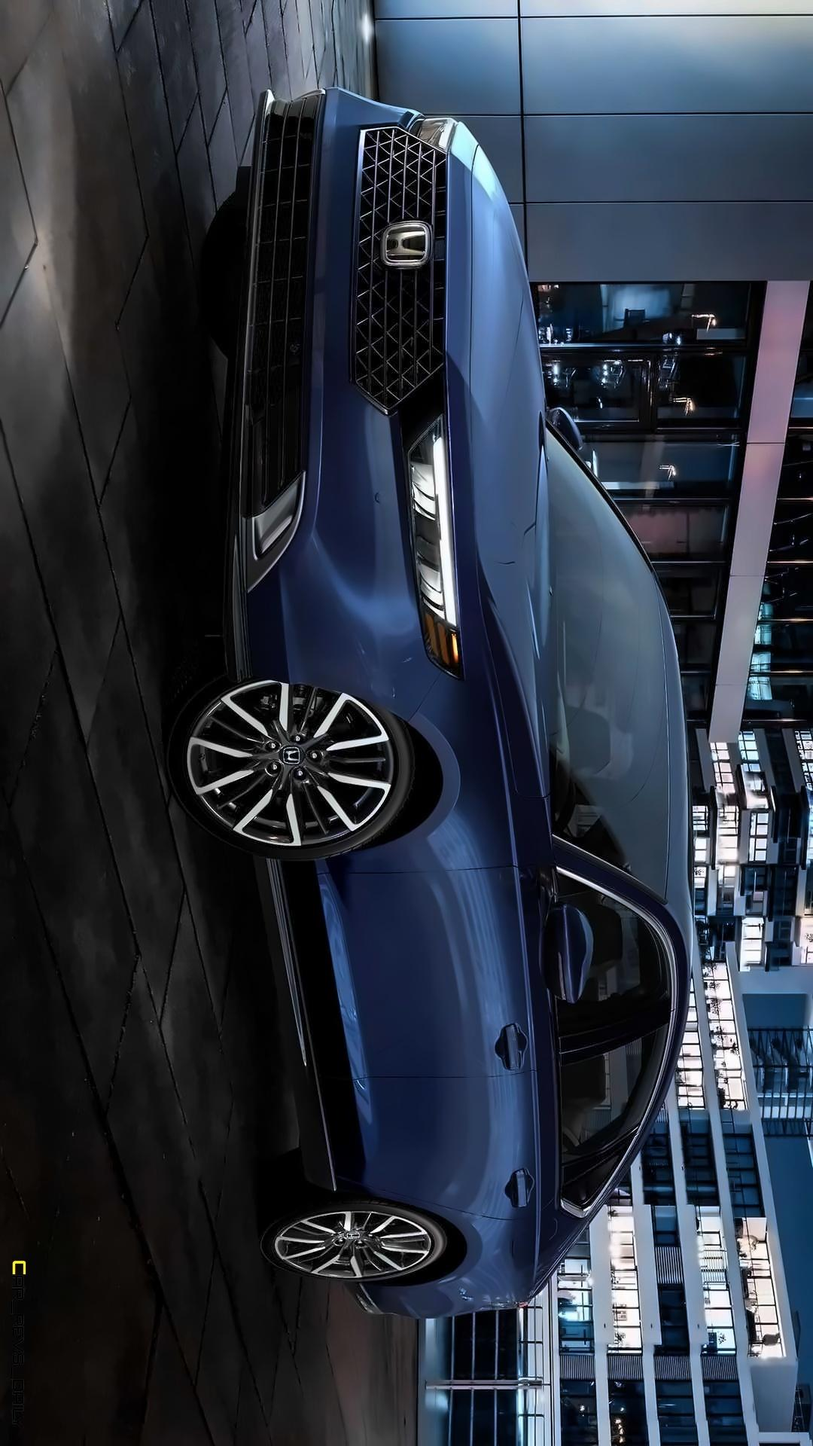Car hood: (439, 106, 556, 751)
Fender - -F-L-: (284, 666, 579, 876)
Fender - -R-L-: (447, 1220, 585, 1312)
Front bumper: (221, 66, 412, 719)
Headlight - -L-: (394, 404, 478, 687)
Headlight - -R-: (389, 96, 467, 158)
Passenger-s door - -F-L-: (301, 876, 697, 1072)
Passenger-s door - -R-L-: (329, 1065, 674, 1216)
Rear bumper: (324, 1258, 451, 1337)
Side bumper - -L-: (260, 844, 371, 1212)
Side mirror - -L-: (512, 864, 601, 1006)
Side mirror - -R-: (542, 389, 599, 468)
